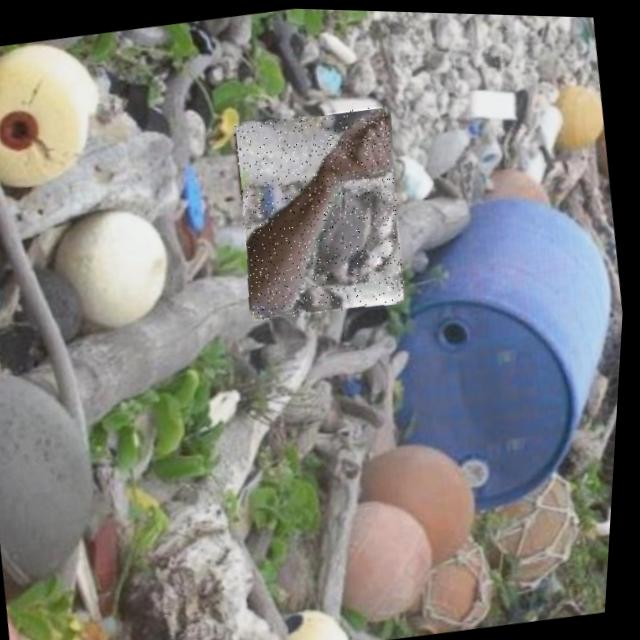Person in Rubble: (225, 100, 418, 324)
